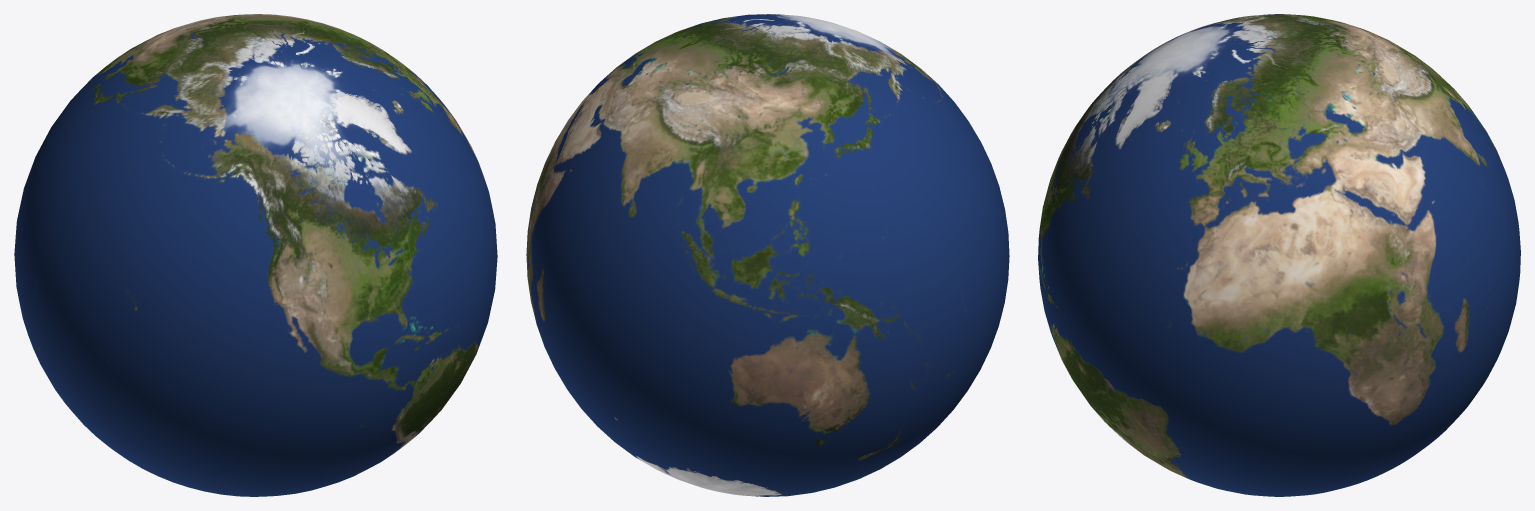
File: earth.glb
3 views of the same model, side by side, from view 1: azimuth 30°, elevation 25°; view 2: azimuth 150°, elevation 25°; view 3: azimuth 270°, elevation 25° (orthographic).
Visible parts, largest first — view 1: erath; view 2: erath; view 3: erath.
Part boxes in pixels (box(x1,y1,x2,y2)): erath: box(14, 14, 497, 496); erath: box(526, 14, 1009, 496); erath: box(1038, 14, 1520, 496).
Bounding box in the file's own units: 5.65 × 5.65 × 5.65.
1 material, 1 textured.
